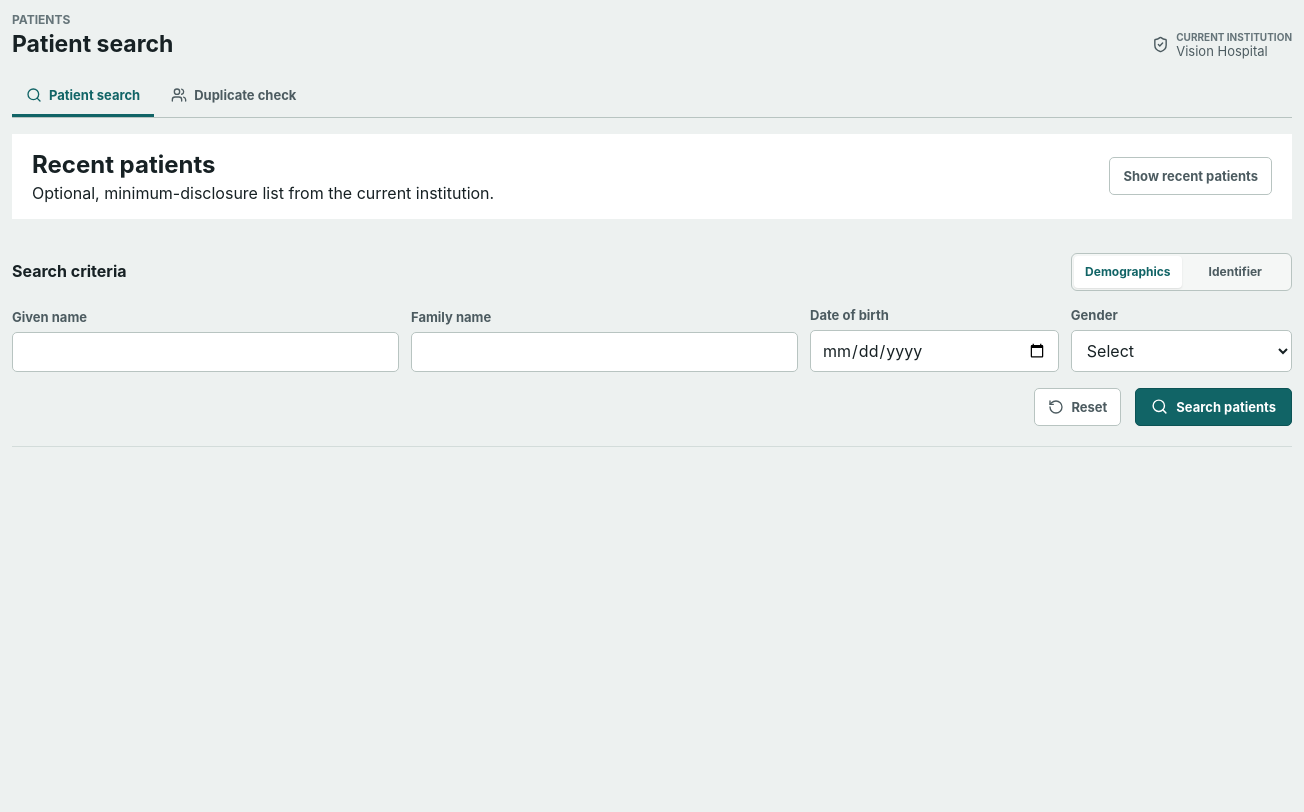
Test: PatientSearchPage › communicates duplicate-check coverage and truncation without claiming uniqueness
Click the button "Duplicate check".
click(234, 97)  # box [157,77,310,117]
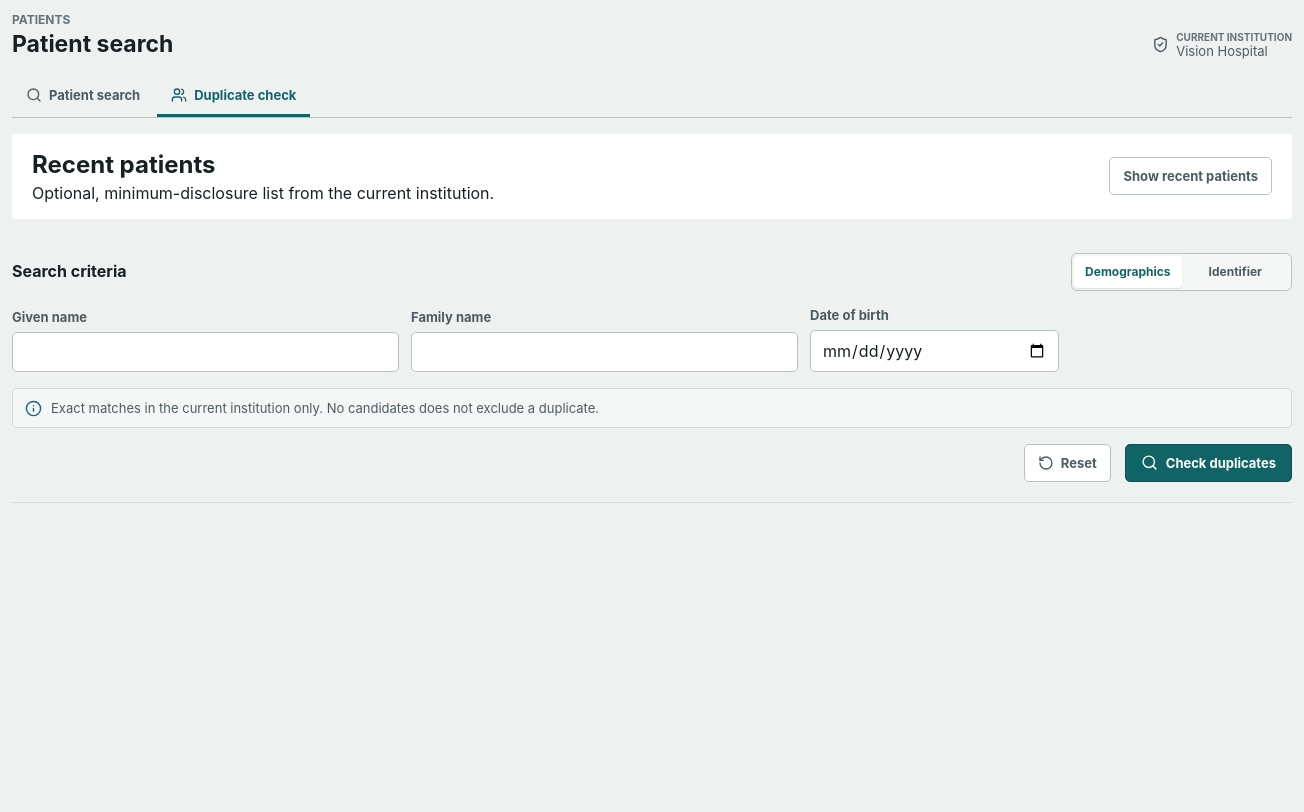
Type "Alice" into the field labelled "Given name".
click(206, 352); type("Alice")  # box [12,332,399,372]
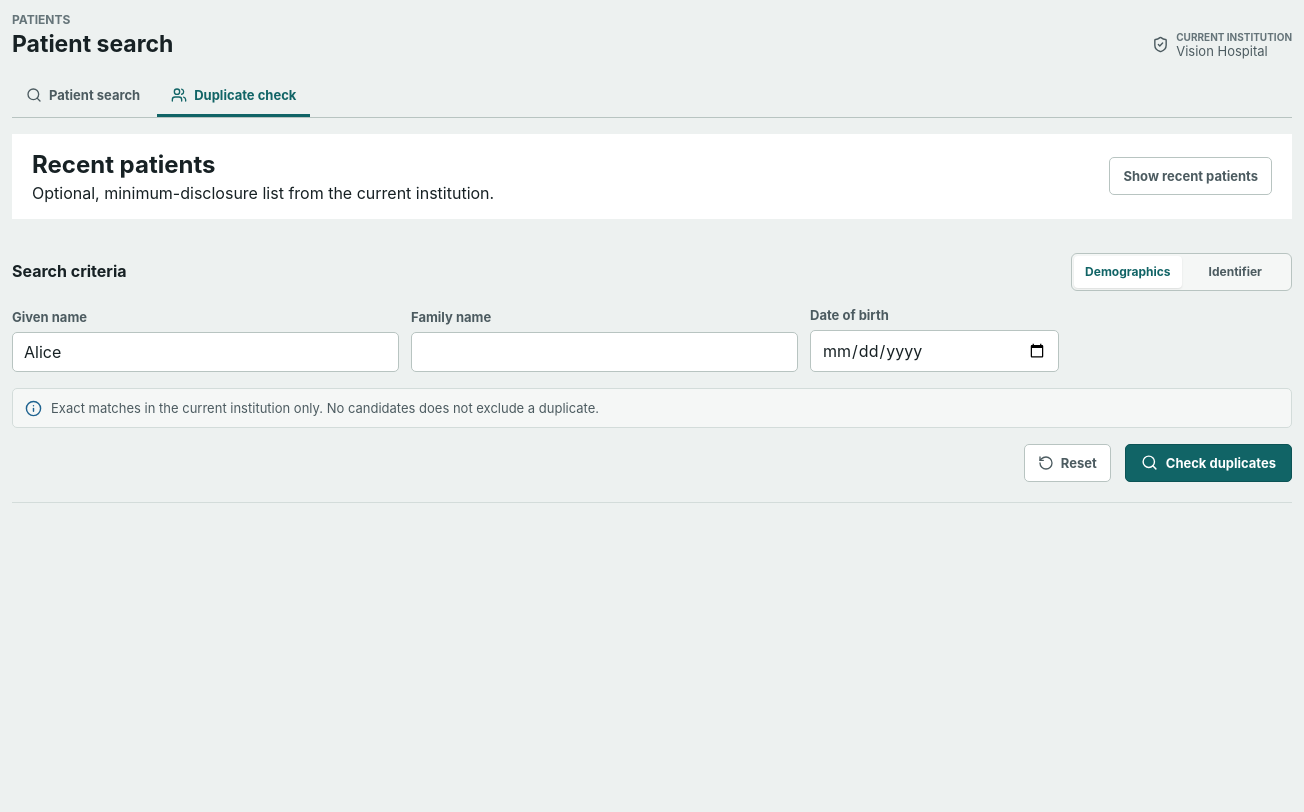
Type "Patient" into the field labelled "Family name".
click(604, 352); type("Patient")  # box [411,332,798,372]
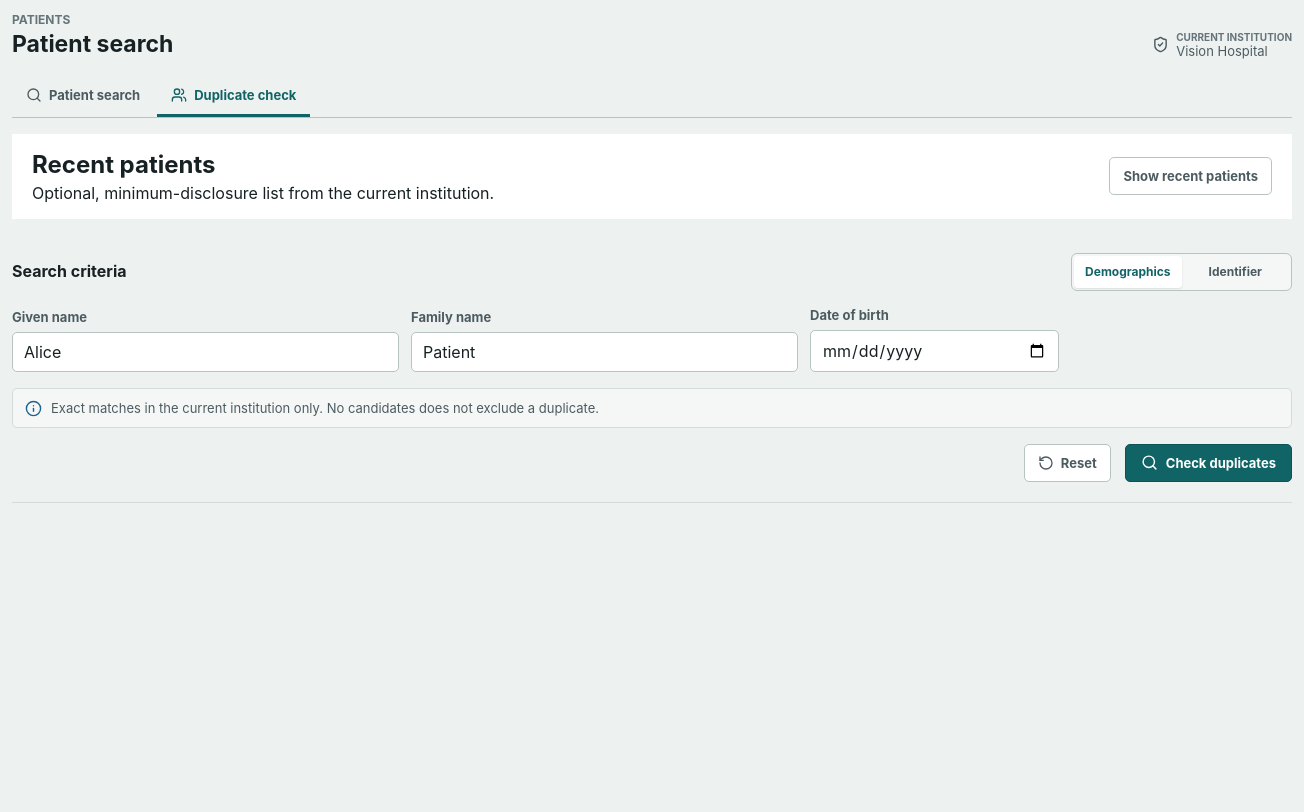
Type "1980-02-03" into the date field labelled "Date of birth".
click(934, 351); type("1980-02-03")  # box [810,330,1059,372]
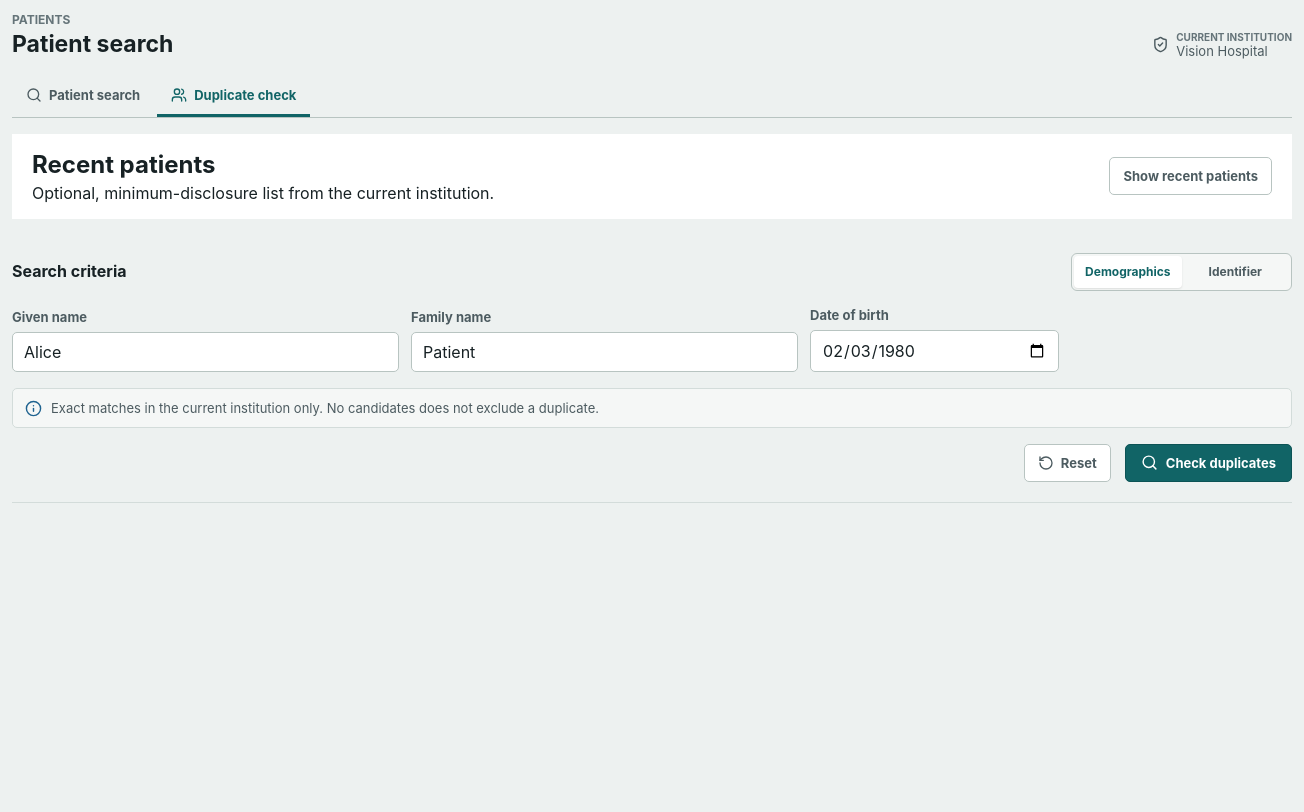
Click the button "Check duplicates".
click(1208, 463)  # box [1125,444,1292,482]
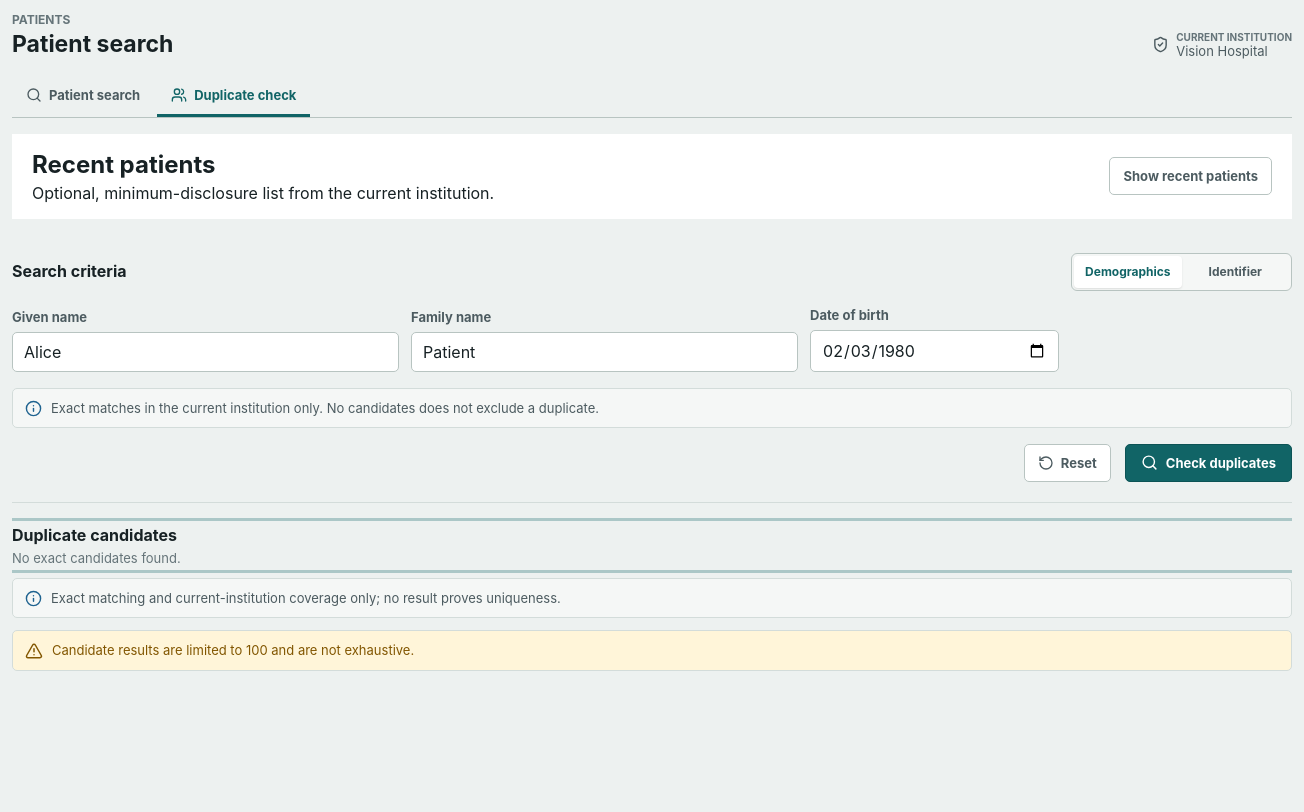
expect the text "does not exclude a duplicate" is shown: met, box [51,400,599,416]
expect the text "No exact candidates found." is shown: met, box [12,550,181,566]
expect the message "Candidate results are limited to 100 and are not exhaustive." is shown: met, box [12,630,1292,671]
